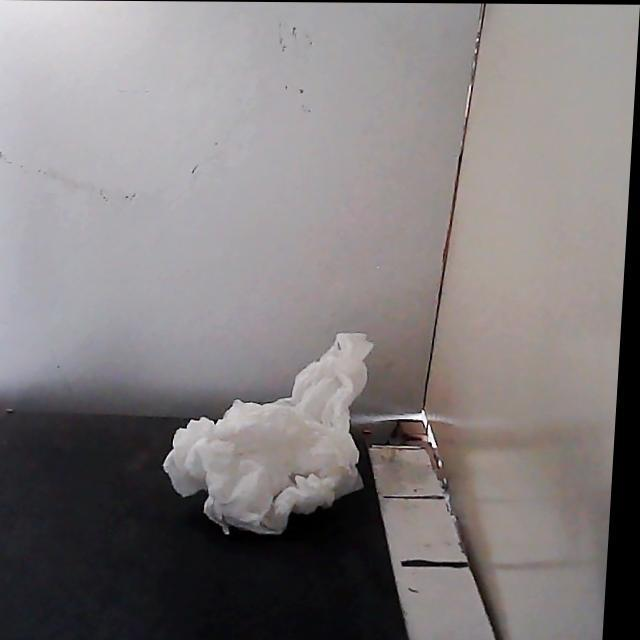papel: (163, 333, 372, 533)
